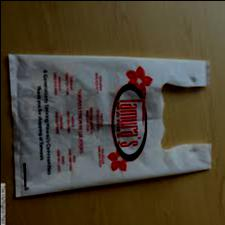Plastic: (7, 49, 217, 199)
